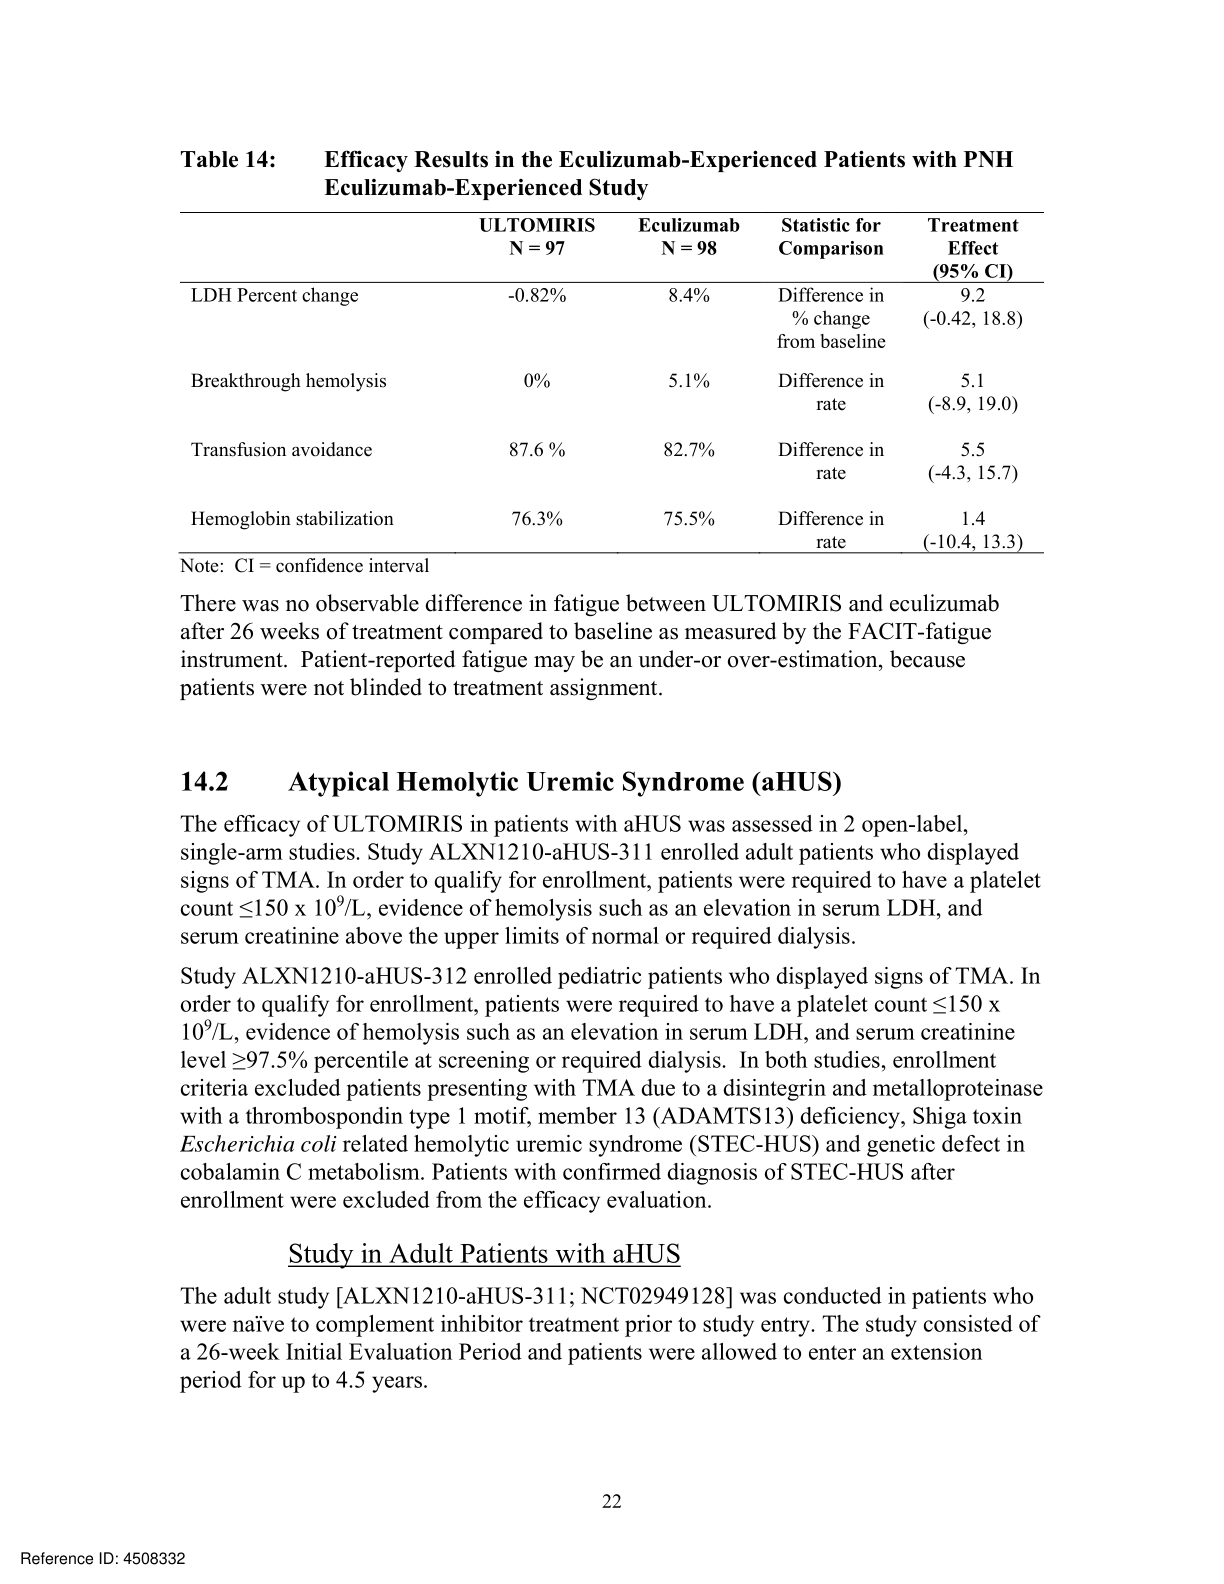partial_lined: (177, 210, 1047, 555)
